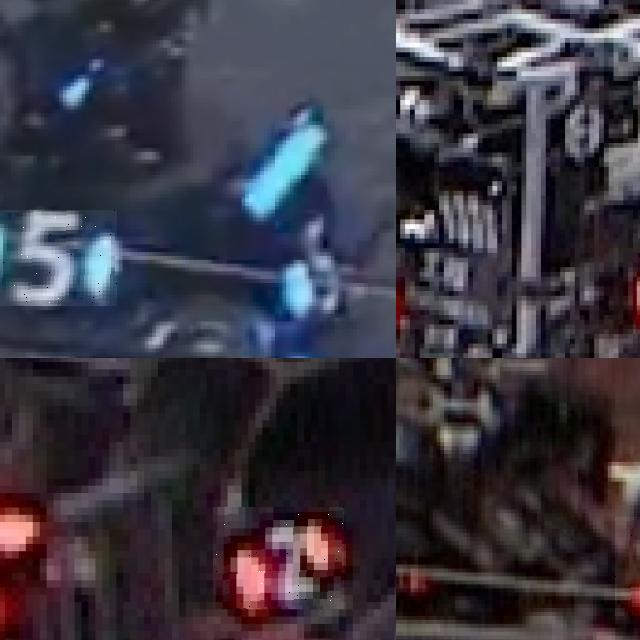B5: (0, 209, 118, 306)
R1: (615, 517, 640, 616)
R2: (214, 508, 346, 610)
